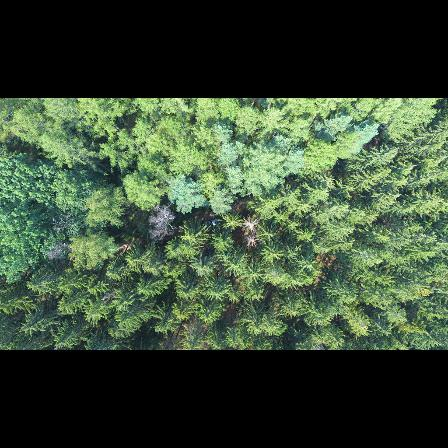Dead: (150, 206, 177, 238), (46, 240, 72, 259), (241, 212, 261, 231), (245, 232, 259, 251)
